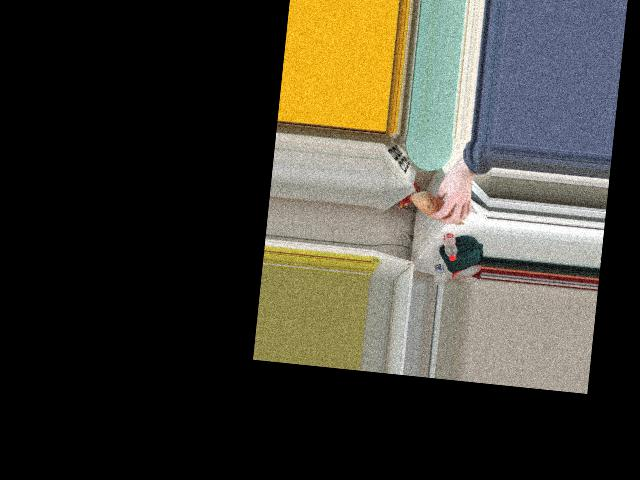sweet_potato: (413, 195, 468, 225)
